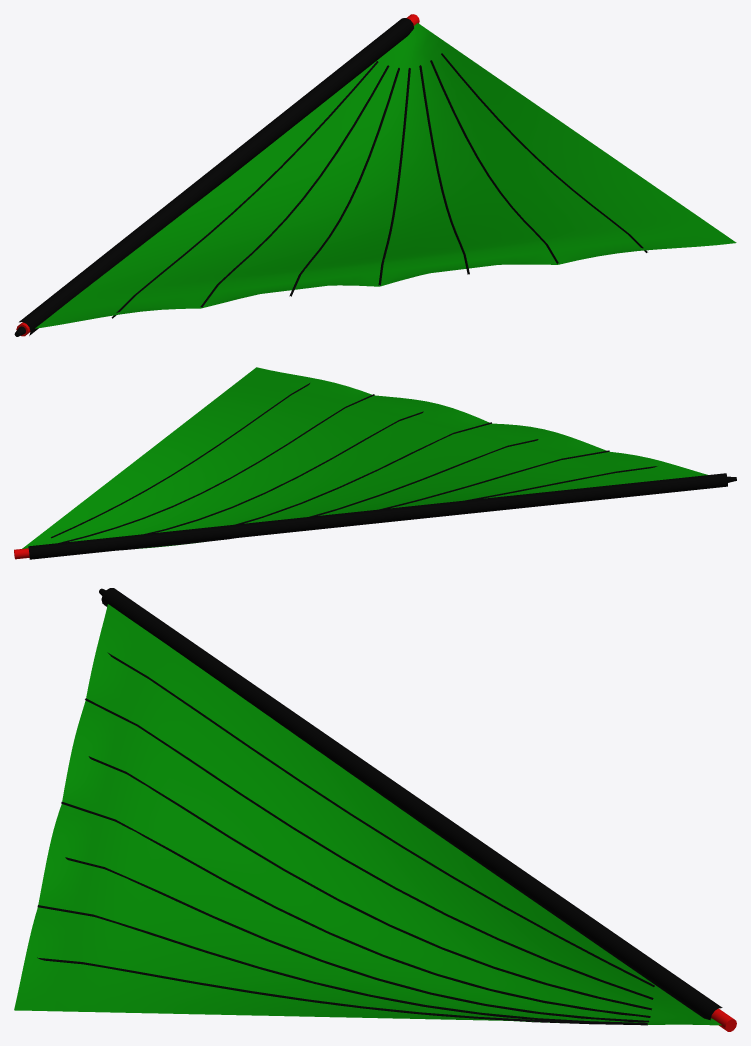
Rendered from glider_left.glb.
3 renders of one model, top to bottom at view 1: azimuth 30°, elevation 25°; view 2: azimuth 150°, elevation 25°; view 3: azimuth 270°, elevation 25°, orthographic. The views are drawn at different scales.
Parts seen in each view (by area): view 1: glider_left; view 2: glider_left; view 3: glider_left.
Boxes of the visible parts, left/top/right/bottom form: glider_left: left=14, top=14, right=736, bottom=336; glider_left: left=14, top=367, right=736, bottom=559; glider_left: left=14, top=588, right=736, bottom=1031.
Bounding box in the file's own units: 3.67 × 0.4854 × 3.02.
